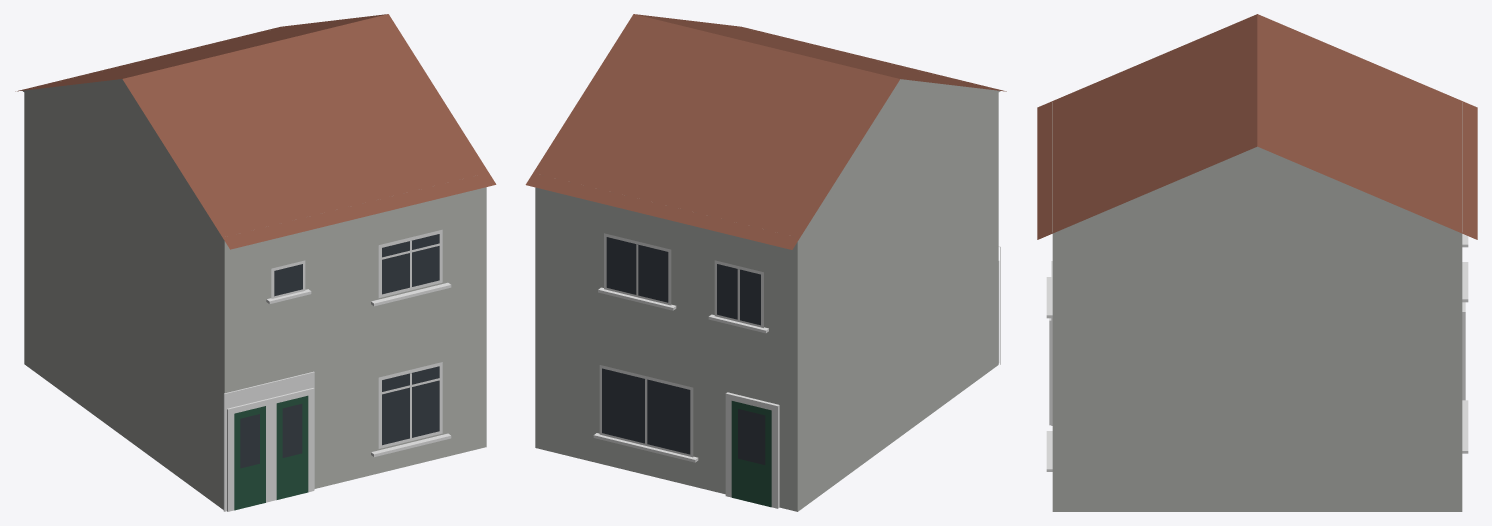
The model's file is nd-td-pomona__grey__2__gable__long__solid__f1d0__mirror.glb.
3 views of the same model, side by side, from view 1: azimuth 30°, elevation 25°; view 2: azimuth 150°, elevation 25°; view 3: azimuth 270°, elevation 25° (orthographic). The views are drawn at different scales.
Visible parts, largest first — view 1: nd-td-pomona__grey__2__gable__long__solid__f1d0__mirror; view 2: nd-td-pomona__grey__2__gable__long__solid__f1d0__mirror; view 3: nd-td-pomona__grey__2__gable__long__solid__f1d0__mirror.
Boxes of the visible parts, x1=… form: nd-td-pomona__grey__2__gable__long__solid__f1d0__mirror: x1=15, y1=14, x2=496, y2=511; nd-td-pomona__grey__2__gable__long__solid__f1d0__mirror: x1=525, y1=14, x2=1006, y2=511; nd-td-pomona__grey__2__gable__long__solid__f1d0__mirror: x1=1037, y1=14, x2=1477, y2=511.
Bounding box in the file's own units: 6.04 × 7.79 × 8.48.
